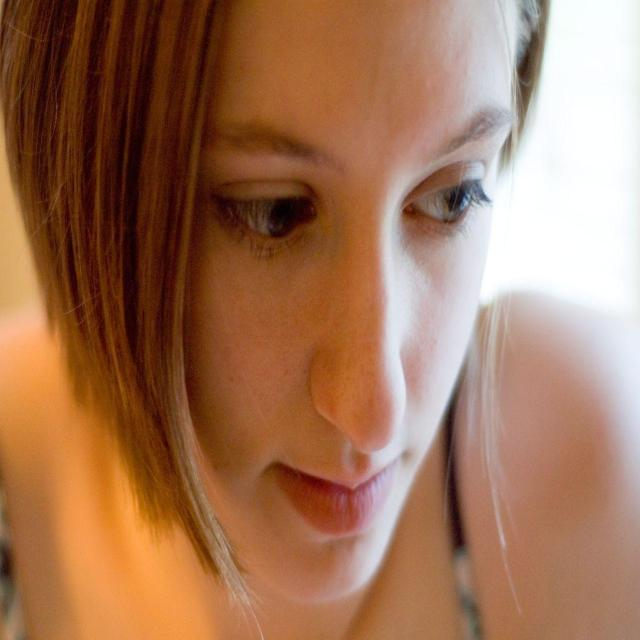no-glass: (209, 153, 489, 258)
